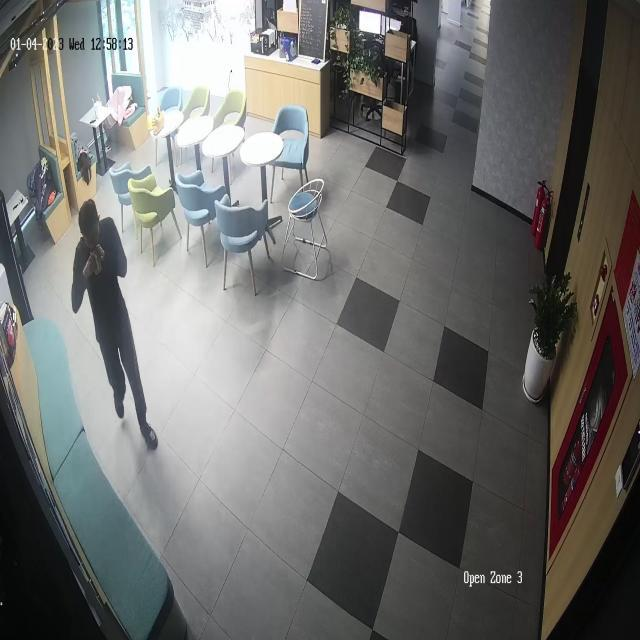person: (71, 199, 159, 452)
